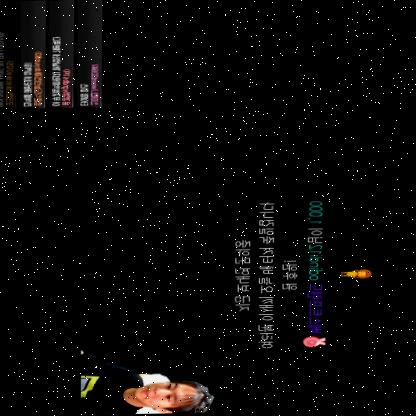donation: (229, 198, 372, 353)
streamer: (81, 348, 217, 415)
